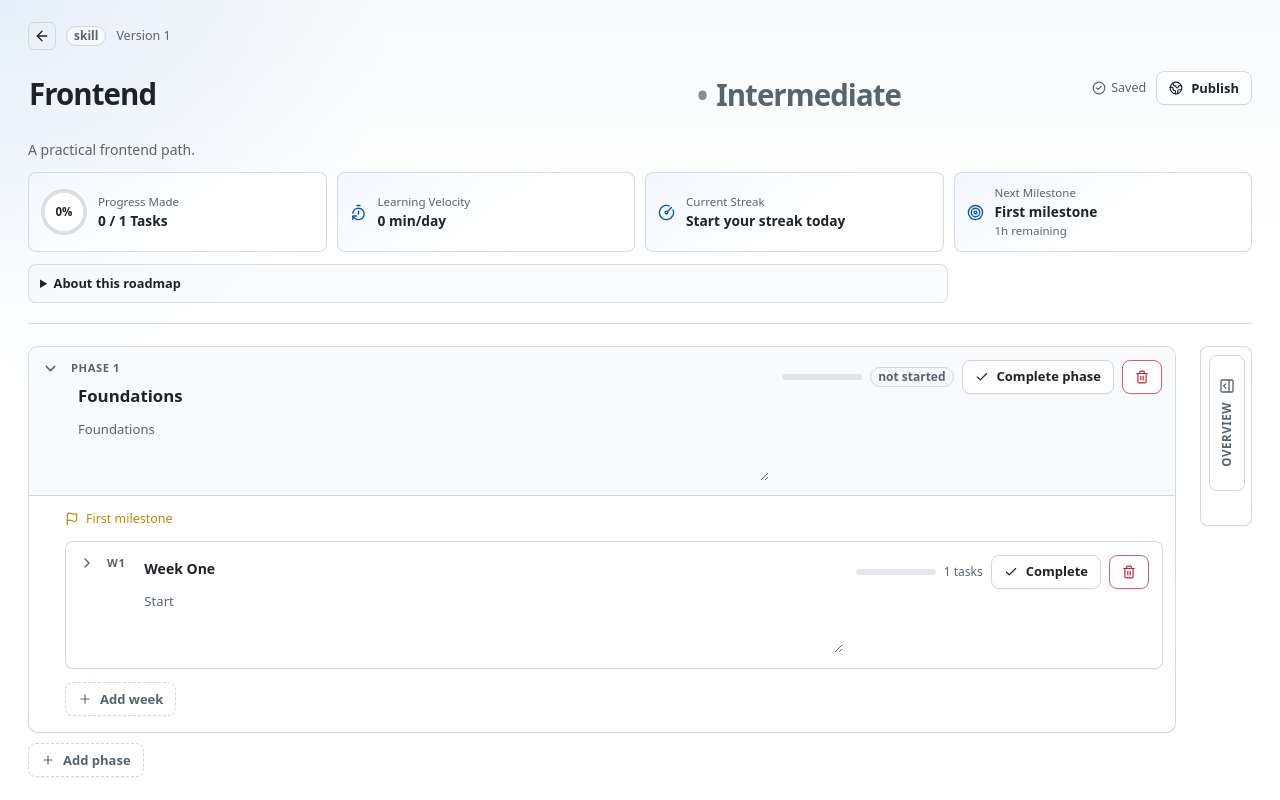
publishes the owner roadmap explicitly from the workspace
The width and height of the screenshot is (1280, 800).
Click the button "Publish" at [1204, 88], box [1156,71,1252,105]
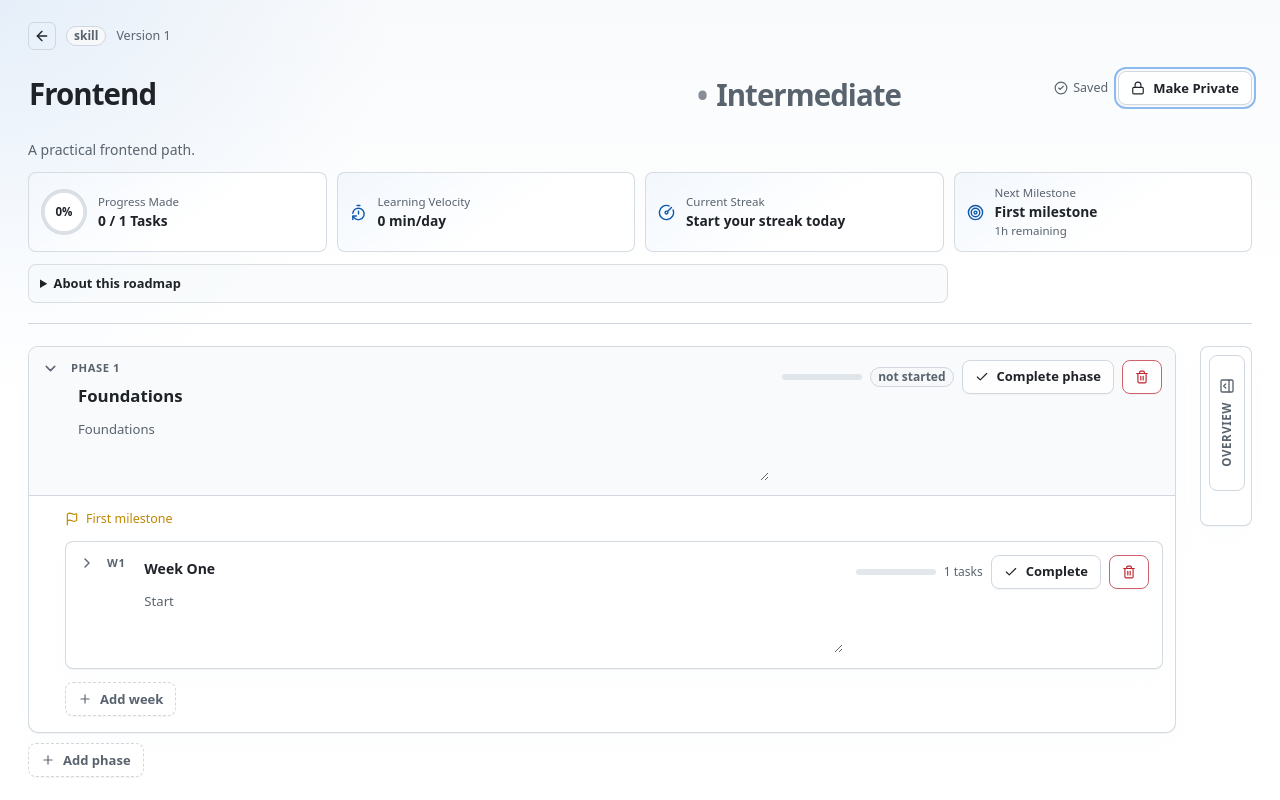
Result: the button "Make Private" is shown at [1118,71,1252,105]
